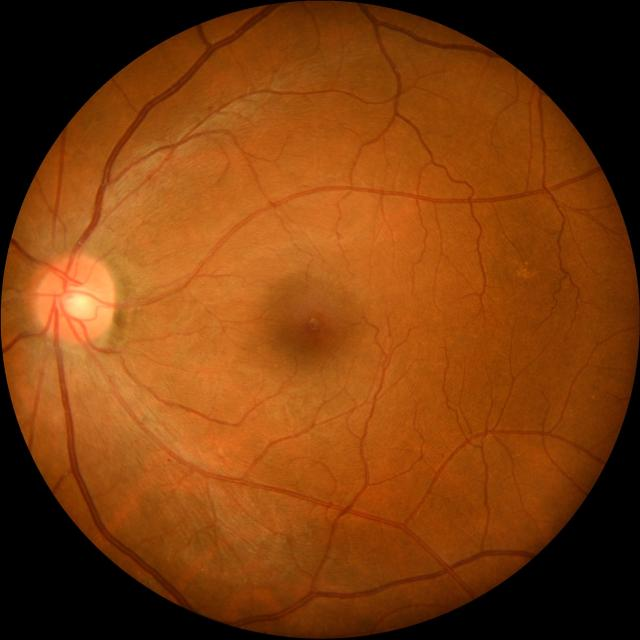OC: (56, 284, 98, 321)
OD: (34, 252, 116, 344)
